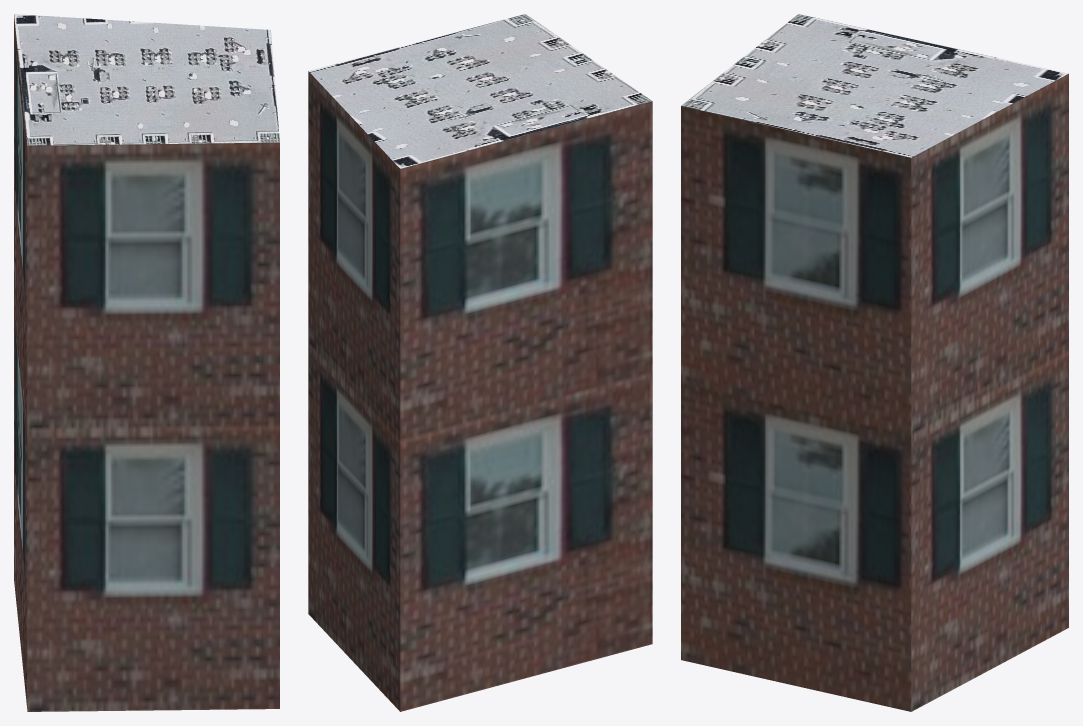
The model's file is ResTex__1214.fbx.
The picture shows the model from 3 angles, left to right: view 1: azimuth 30°, elevation 25°; view 2: azimuth 150°, elevation 25°; view 3: azimuth 270°, elevation 25°; orthographic projection. The views are drawn at different scales.
Parts seen in each view (by area): view 1: CityEngineMaterial_14_m, CityEngineMaterial_2_m; view 2: CityEngineMaterial_14_m, CityEngineMaterial_2_m; view 3: CityEngineMaterial_14_m, CityEngineMaterial_2_m.
Boxes of the visible parts, <box> form: CityEngineMaterial_14_m: <box>14,15,279,711</box>; CityEngineMaterial_2_m: <box>14,14,279,145</box>; CityEngineMaterial_14_m: <box>308,71,652,711</box>; CityEngineMaterial_2_m: <box>308,14,651,168</box>; CityEngineMaterial_14_m: <box>681,74,1068,711</box>; CityEngineMaterial_2_m: <box>681,14,1068,157</box>.
Size of the model in its own units: 3.34 by 6 by 3.81.
2 materials, 2 textured.
